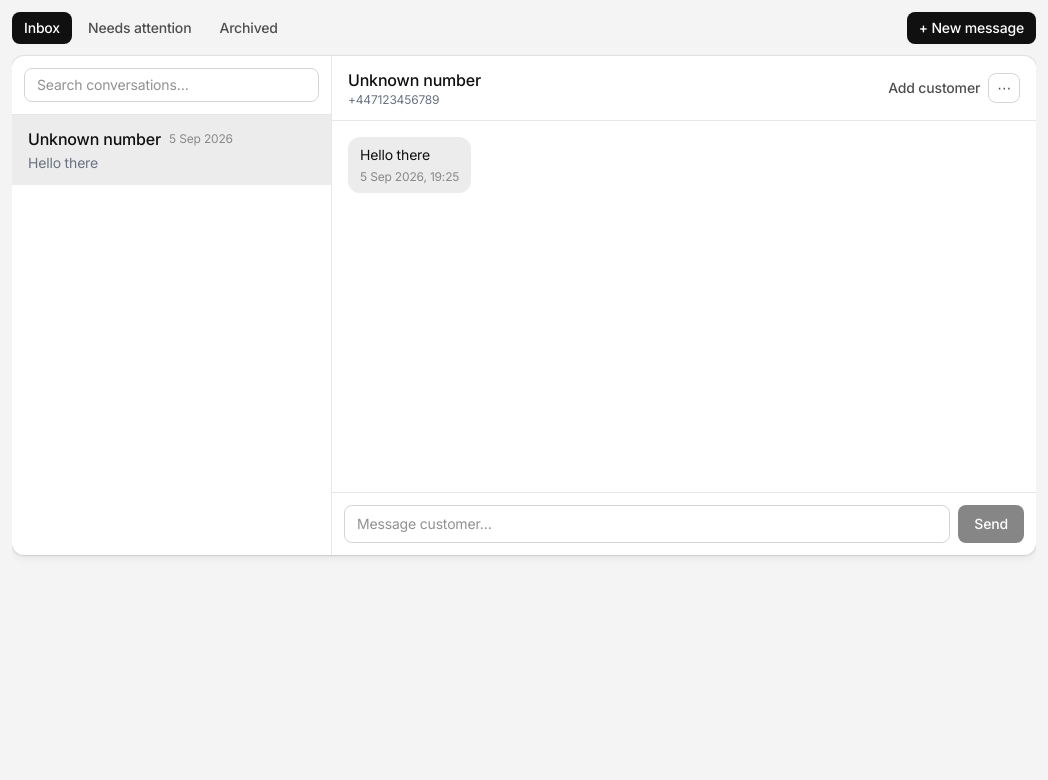
it: WhatsAppInbox - conversation actions › surfaces a 403 when a non-owner tries to delete
Click the button named "conversation actions" at coordinates (1004, 88), box [988, 73, 1020, 103]
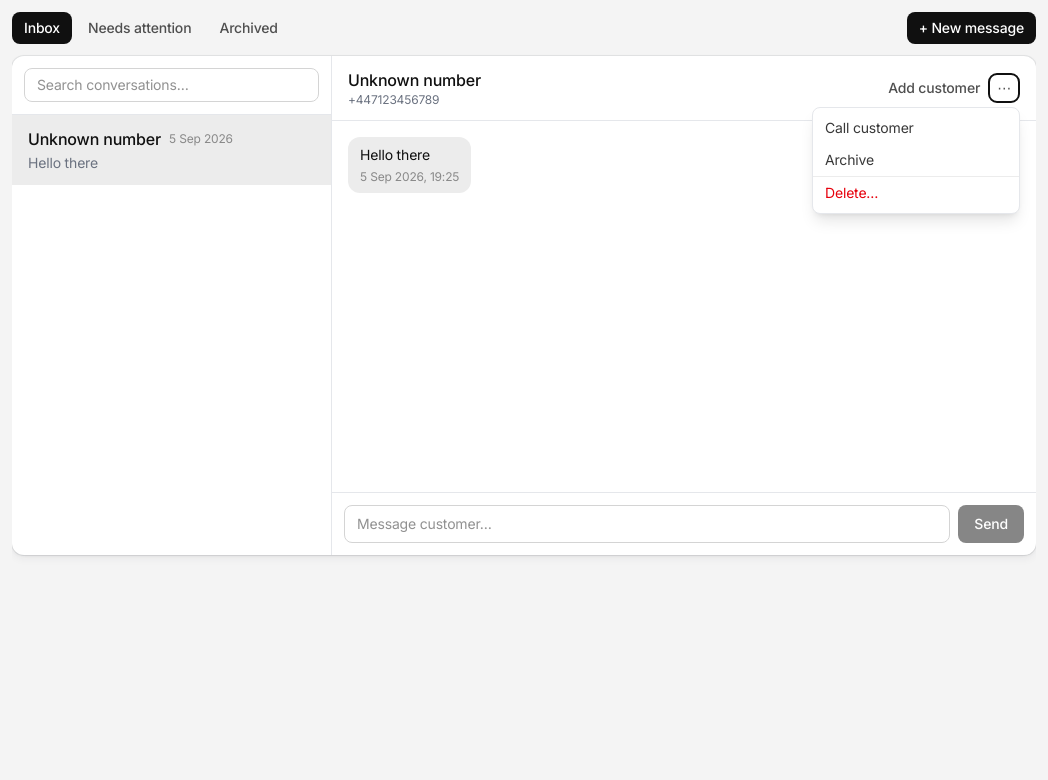
Click the button "Delete…" at coordinates (916, 192), box [813, 176, 1019, 209]
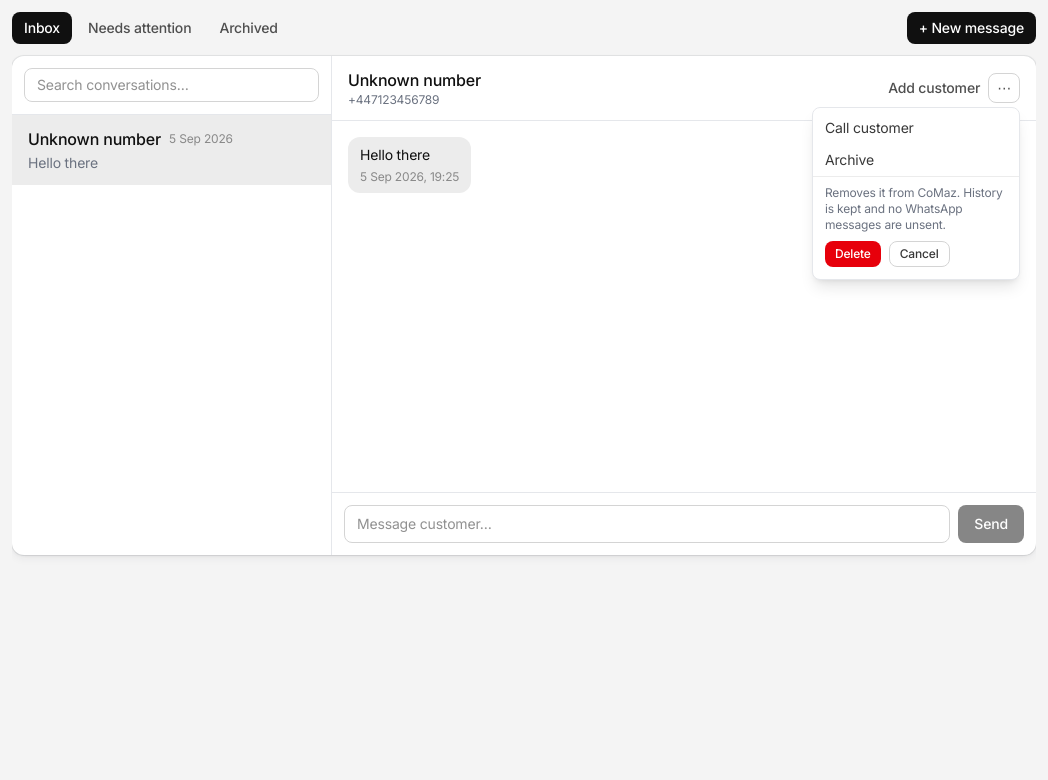
Click the button "Delete" at coordinates (853, 254), box [825, 241, 881, 267]
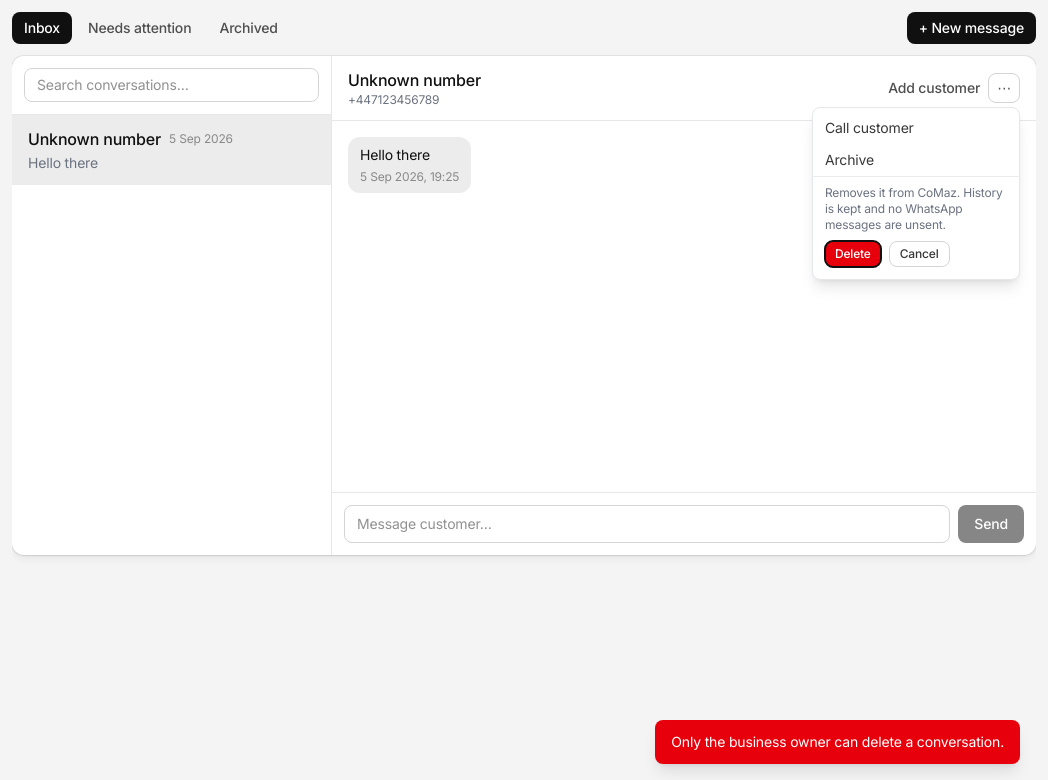
Expected: the text "Only the business owner can delete a conversation." is shown, [655, 720, 1020, 764]
